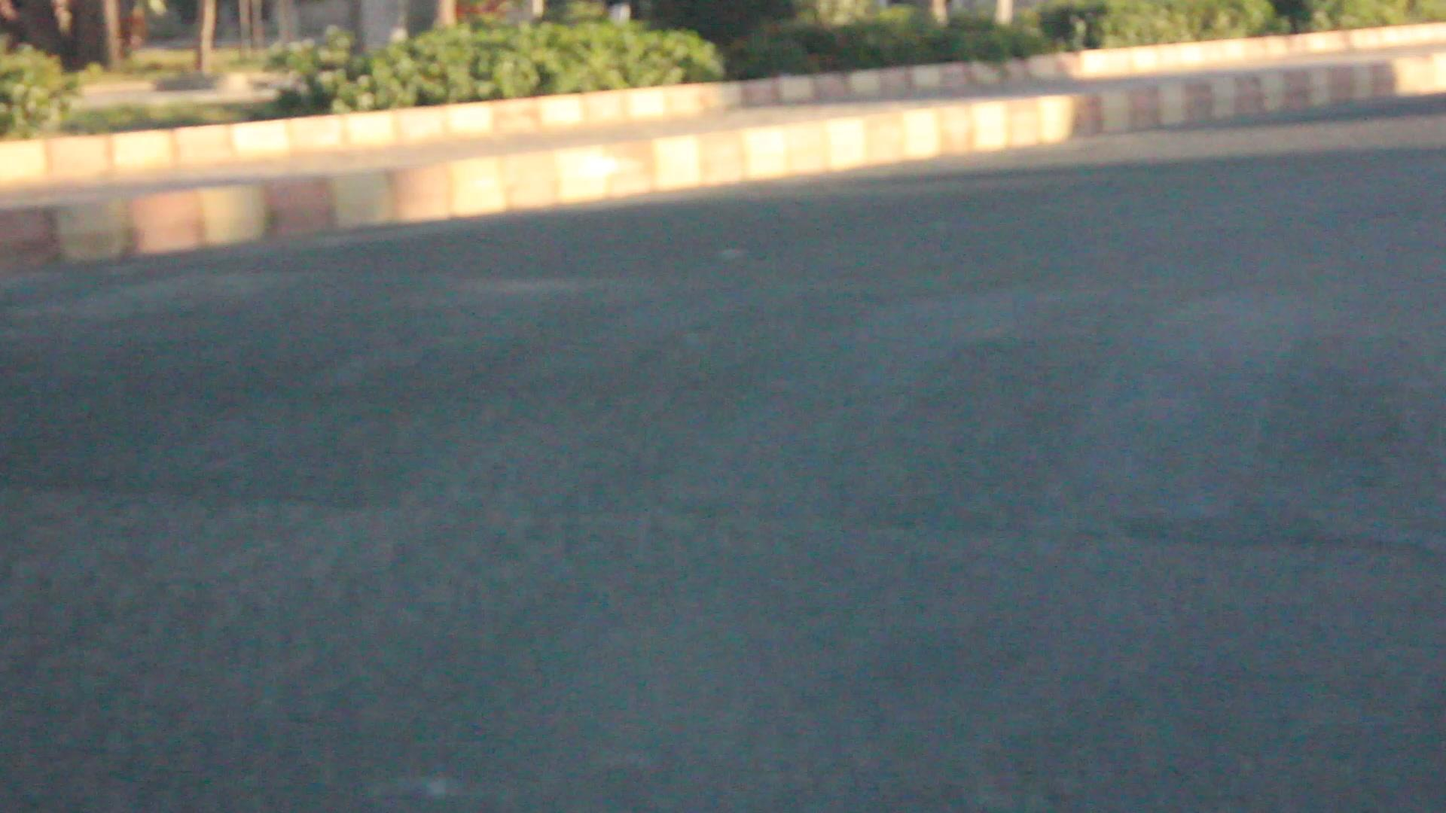Bump: (4, 265, 1445, 536)
